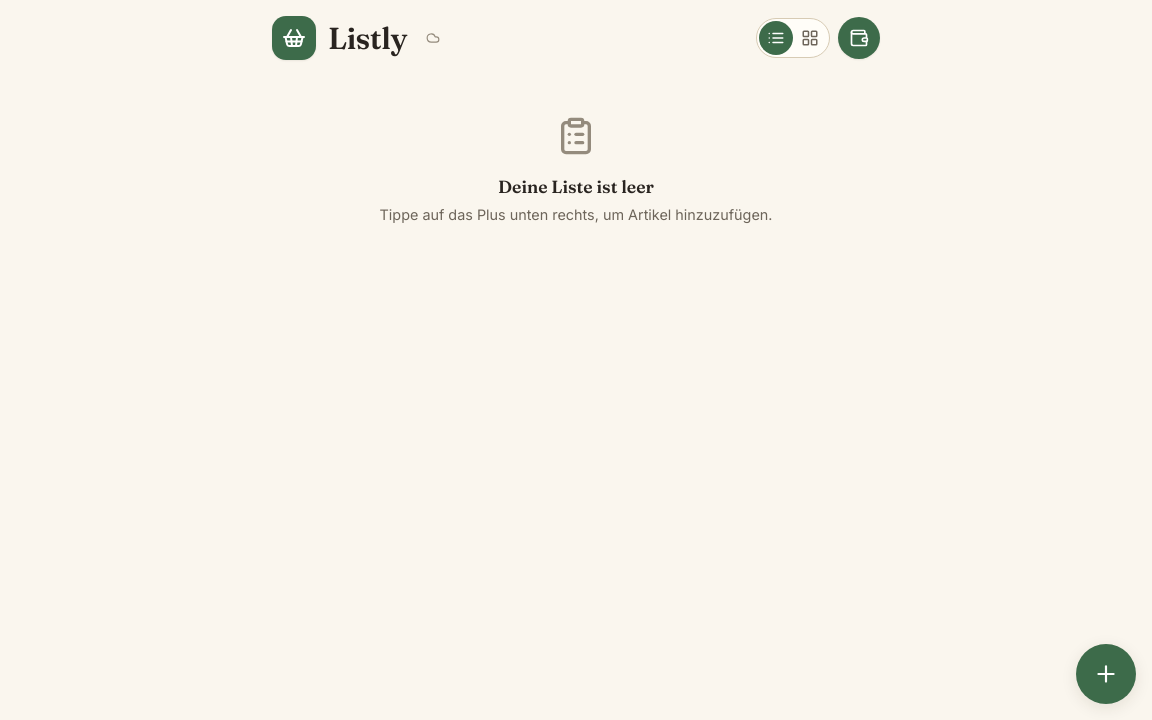
App (smoke test, local mode) › adds a typed item to the open list via the add sheet
This screenshot has width=1152, height=720.
Click the button named "Artikel hinzufügen".
click(1106, 674)  # box [1076, 644, 1136, 704]
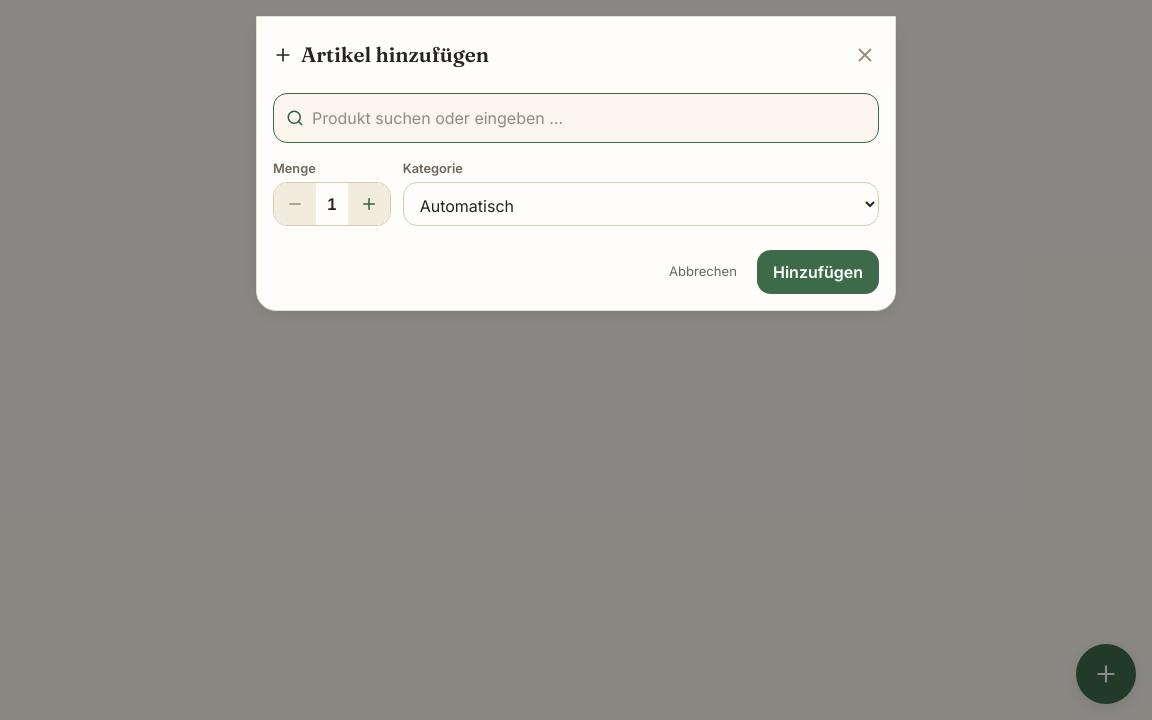
Type "Testartikel" into the dropdown named "Produkt suchen oder hinzufügen".
click(589, 118); type("Testartikel")  # box [312, 94, 866, 142]
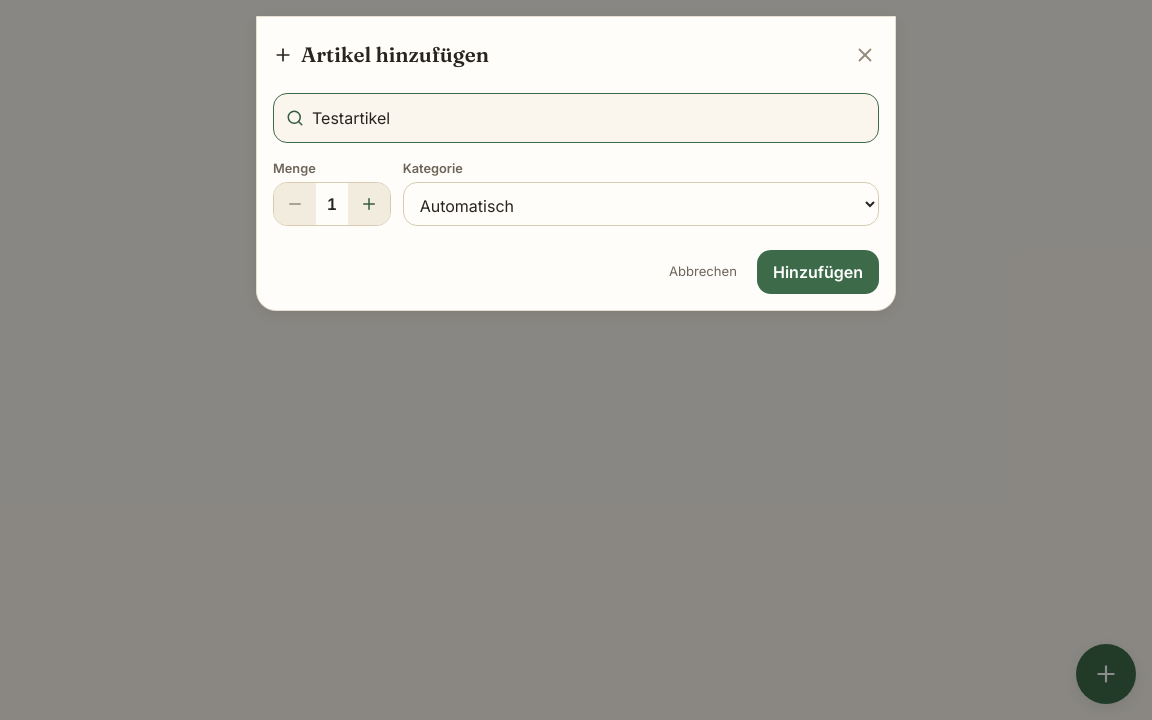
Click the button "Hinzufügen".
click(818, 272)  # box [757, 250, 879, 294]
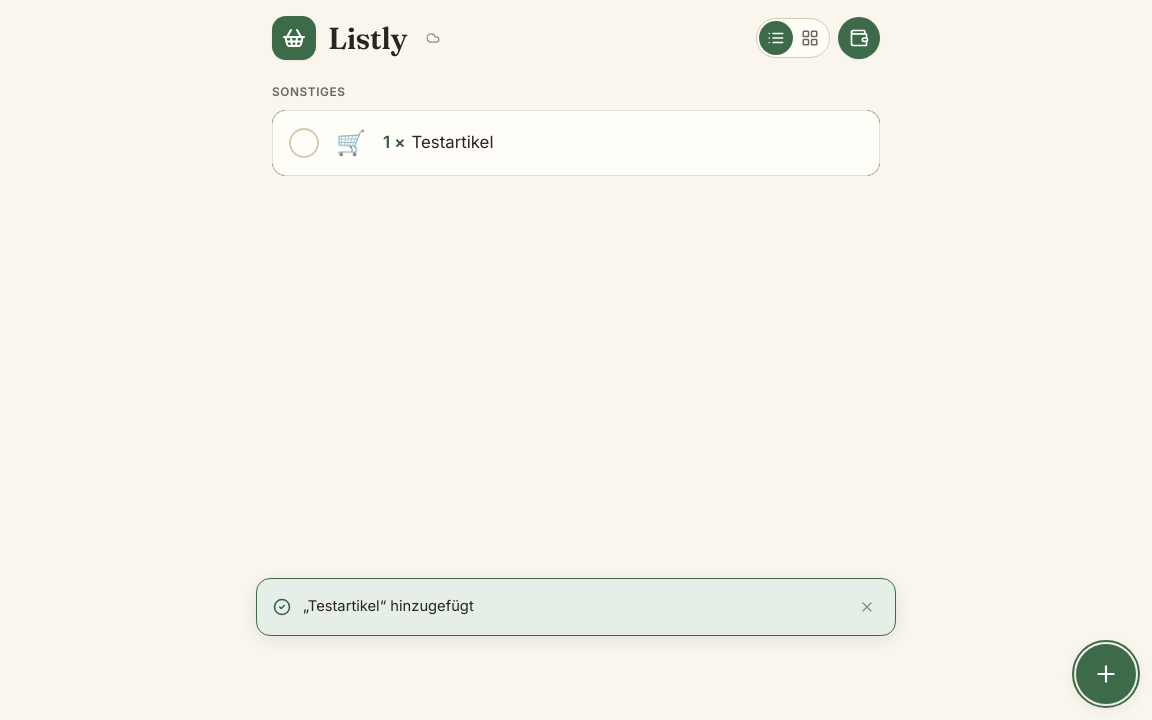
Expected: the text "Testartikel" is shown, [412, 132, 494, 152]
Expected: the dialog is gone
